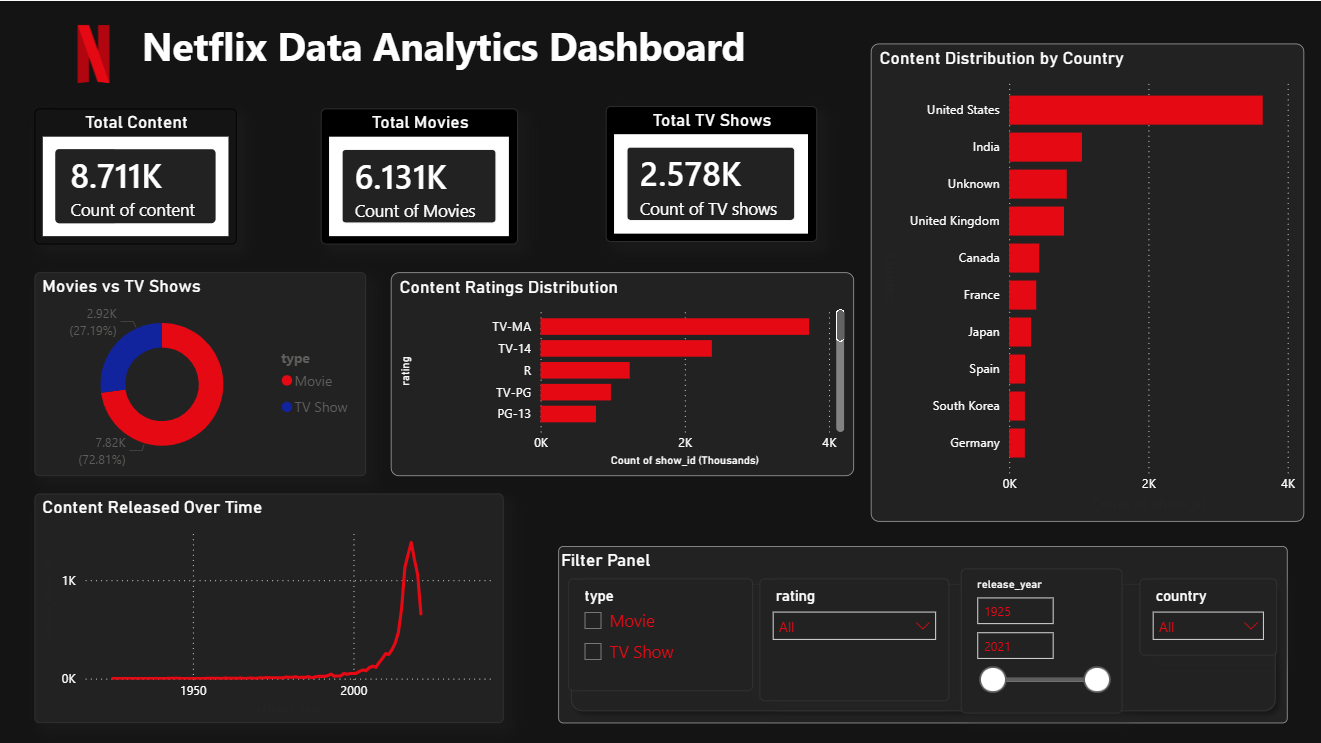

This screenshot's page, from the dashboard's own definition file:
{"tool":"powerbi","page":{"name":"Page 1","canvas":[1280,720],"ordinal":0},"visuals":[{"type":"shape","box":[541.4,525.7,704.3,171.4],"z":0},{"type":"cardVisual","title":"Total Content","fields":{"Data":["Count(cleaned_netflix_data.show_id)"]},"box":[35.7,104.3,175.7,131.4],"z":1000},{"type":"cardVisual","title":"Total Movies","fields":{"Data":["Count(cleaned_netflix_data.show_id)"]},"box":[312.9,104.3,175.7,131.4],"z":2000},{"type":"donutChart","fields":{"Category":["cleaned_netflix_data.type"],"Y":["CountNonNull(cleaned_netflix_data.show_id)"]},"box":[35.7,261.4,320,197.1],"z":3000},{"type":"clusteredBarChart","fields":{"Category":["cleaned_netflix_data.country"],"Y":["CountNonNull(cleaned_netflix_data.show_id)"]},"box":[842.9,41.4,418.6,461.4],"z":4000},{"type":"lineChart","fields":{"Category":["cleaned_netflix_data.release_year"],"Y":["CountNonNull(cleaned_netflix_data.show_id)"]},"box":[35.7,475.7,452.9,221.4],"z":5000},{"type":"clusteredBarChart","fields":{"Category":["cleaned_netflix_data.rating"],"Y":["CountNonNull(cleaned_netflix_data.show_id)"]},"box":[380,261.4,447.1,197.1],"z":6000},{"type":"slicer","fields":{"Values":["cleaned_netflix_data.type"]},"box":[551.4,557.1,178.6,108.6],"z":7000},{"type":"slicer","fields":{"Values":["cleaned_netflix_data.country"]},"box":[1102.9,557.1,132.9,74.3],"z":8000},{"type":"slicer","fields":{"Values":["cleaned_netflix_data.rating"]},"box":[735.7,557.1,182.9,118.6],"z":9000},{"type":"slicer","fields":{"Values":["cleaned_netflix_data.release_year"]},"box":[930,547.1,155.7,140],"z":10000},{"type":"textbox","box":[114.3,12.9,632.9,91.4],"z":11000},{"type":"cardVisual","title":"Total TV Shows","fields":{"Data":["Count(cleaned_netflix_data.show_id)"]},"box":[587.1,101.4,175.7,131.4],"z":12000},{"type":"image","box":[0,0,186,102],"z":12001}]}

Visuals, with their boxes in screenshot pixels (x1, y1, x2, y2), scaled from the page's 1280x720 canvas onto the 1321x743 screenshot:
shape: bbox(559, 542, 1286, 719)
"Total Content" cardVisual: bbox(37, 108, 218, 243)
"Total Movies" cardVisual: bbox(323, 108, 504, 243)
donutChart - cleaned_netflix_data.type x CountNonNull(cleaned_netflix_data.show_id): bbox(37, 270, 367, 473)
clusteredBarChart - cleaned_netflix_data.country x CountNonNull(cleaned_netflix_data.show_id): bbox(870, 43, 1302, 519)
lineChart - cleaned_netflix_data.release_year x CountNonNull(cleaned_netflix_data.show_id): bbox(37, 491, 504, 719)
clusteredBarChart - cleaned_netflix_data.rating x CountNonNull(cleaned_netflix_data.show_id): bbox(392, 270, 854, 473)
slicer - cleaned_netflix_data.type: bbox(569, 575, 753, 687)
slicer - cleaned_netflix_data.country: bbox(1138, 575, 1275, 652)
slicer - cleaned_netflix_data.rating: bbox(759, 575, 948, 697)
slicer - cleaned_netflix_data.release_year: bbox(960, 565, 1120, 709)
textbox: bbox(118, 13, 771, 108)
"Total TV Shows" cardVisual: bbox(606, 105, 787, 240)
image: bbox(0, 0, 192, 105)
